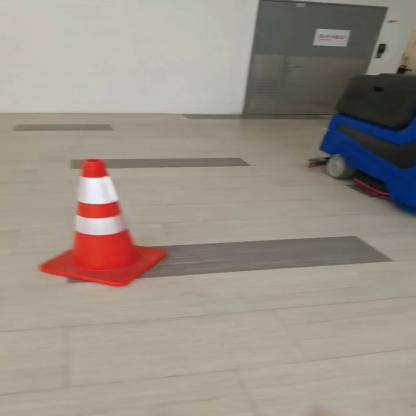cone: (16, 159, 173, 287)
